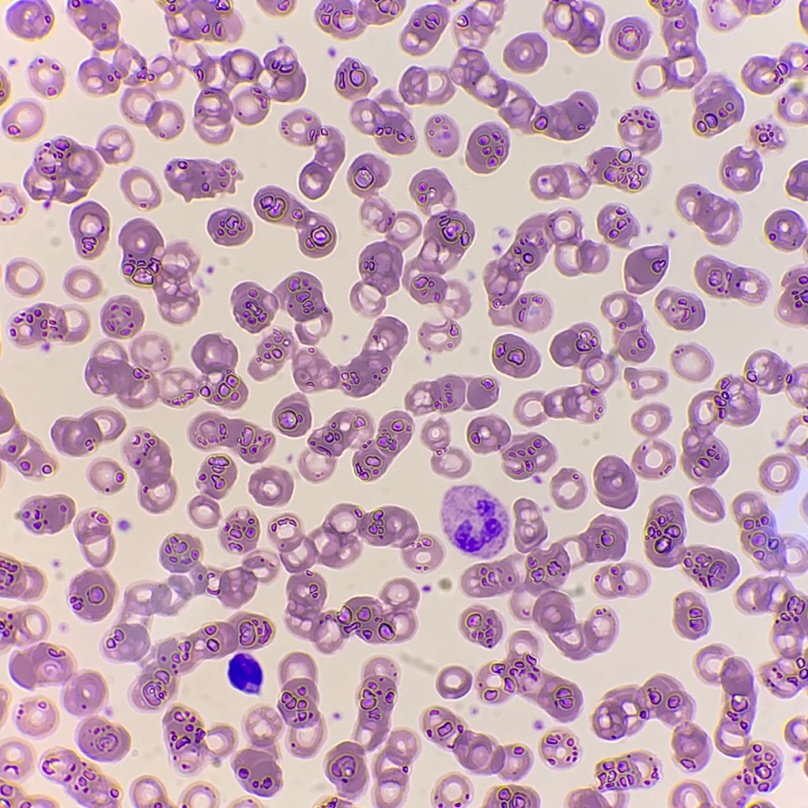RBC: (461, 499, 626, 659), (271, 504, 418, 652), (106, 534, 276, 660), (399, 48, 596, 139), (68, 0, 183, 138), (682, 350, 795, 482), (132, 613, 273, 709), (531, 108, 660, 199), (484, 210, 607, 305), (592, 675, 708, 767), (194, 47, 305, 143), (708, 658, 778, 807), (515, 323, 615, 425), (293, 317, 406, 396), (646, 496, 737, 590), (119, 219, 198, 323), (423, 707, 530, 778), (737, 577, 807, 685), (309, 410, 411, 480), (484, 652, 581, 721), (635, 1, 704, 96), (403, 210, 473, 302), (85, 335, 170, 408), (164, 334, 246, 408), (232, 273, 331, 332), (254, 187, 335, 257), (281, 110, 344, 198), (467, 416, 555, 479), (359, 209, 420, 294), (24, 138, 101, 202), (442, 485, 507, 557), (279, 653, 323, 757), (164, 707, 233, 773), (124, 431, 176, 512), (189, 412, 273, 462), (351, 91, 414, 154), (733, 492, 784, 569), (234, 712, 281, 795), (676, 185, 737, 244), (602, 293, 653, 362), (315, 0, 405, 38), (57, 750, 117, 807), (51, 409, 124, 455), (189, 456, 236, 527), (373, 730, 416, 807), (695, 256, 766, 302), (11, 303, 88, 345), (358, 658, 395, 744), (163, 0, 241, 40), (543, 0, 603, 52), (742, 45, 804, 93), (693, 75, 742, 135), (165, 160, 235, 198), (422, 421, 469, 477), (11, 643, 70, 686), (405, 375, 464, 414), (326, 742, 367, 798), (401, 5, 447, 54), (70, 570, 115, 620), (594, 456, 637, 508), (78, 718, 129, 760), (70, 202, 108, 258), (18, 495, 74, 533), (456, 0, 502, 46), (0, 430, 47, 475), (624, 245, 667, 293), (249, 331, 292, 379), (466, 124, 508, 172), (492, 335, 540, 377), (656, 289, 704, 330), (75, 515, 113, 566), (101, 296, 143, 338), (348, 154, 389, 197), (596, 563, 647, 597), (0, 558, 43, 598), (7, 1, 53, 38), (64, 673, 105, 714), (720, 150, 760, 191), (597, 205, 637, 246), (461, 606, 502, 646), (504, 33, 546, 72), (410, 169, 454, 206), (249, 468, 292, 505), (778, 270, 807, 324), (609, 19, 648, 59), (273, 394, 310, 436), (208, 209, 251, 245), (674, 592, 707, 638), (3, 609, 46, 644), (511, 293, 550, 331), (3, 101, 43, 138), (120, 169, 160, 206), (765, 210, 802, 250), (335, 60, 374, 97), (220, 515, 259, 551), (760, 454, 797, 491), (6, 258, 42, 295), (672, 345, 710, 380), (425, 117, 458, 156), (552, 469, 585, 508), (597, 756, 639, 786), (624, 368, 667, 397), (97, 128, 132, 163), (29, 60, 63, 94), (632, 404, 669, 435), (0, 742, 31, 778), (486, 786, 538, 807), (690, 488, 723, 521), (229, 653, 261, 686), (437, 667, 471, 698), (132, 778, 168, 807), (89, 461, 123, 491), (65, 269, 100, 298), (421, 322, 460, 348), (467, 378, 498, 409), (786, 161, 807, 197), (569, 789, 607, 807), (632, 450, 657, 477), (751, 124, 778, 148), (0, 781, 21, 807), (422, 535, 442, 562), (0, 397, 15, 432), (735, 0, 772, 13), (260, 0, 294, 13), (786, 733, 807, 750), (453, 294, 469, 315), (0, 71, 9, 102), (663, 450, 674, 468), (299, 331, 314, 344), (792, 442, 807, 455), (799, 4, 807, 27), (491, 310, 503, 325), (516, 631, 531, 642), (546, 736, 560, 746), (797, 396, 807, 407), (792, 83, 802, 93), (710, 645, 720, 653), (563, 737, 571, 747), (778, 100, 786, 109), (6, 187, 15, 195), (403, 550, 411, 558), (435, 794, 443, 802), (336, 800, 345, 807), (758, 802, 770, 807), (0, 701, 4, 712), (21, 803, 30, 807), (701, 803, 710, 807)
